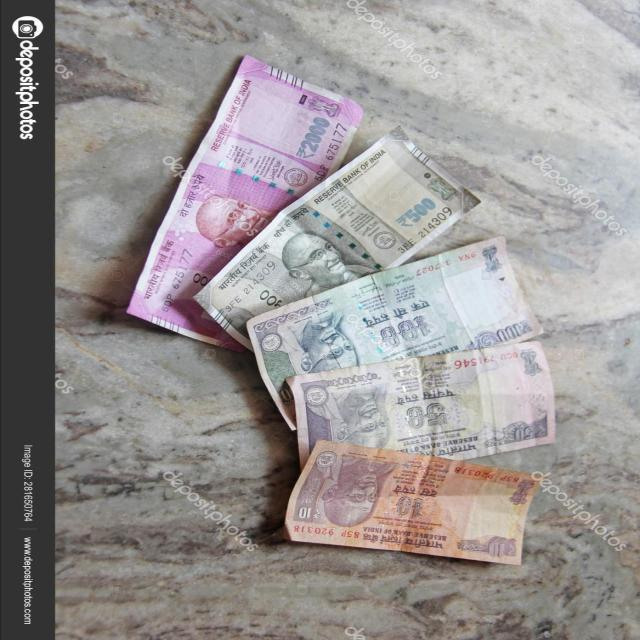50IndianRupees: (298, 340, 560, 475)
